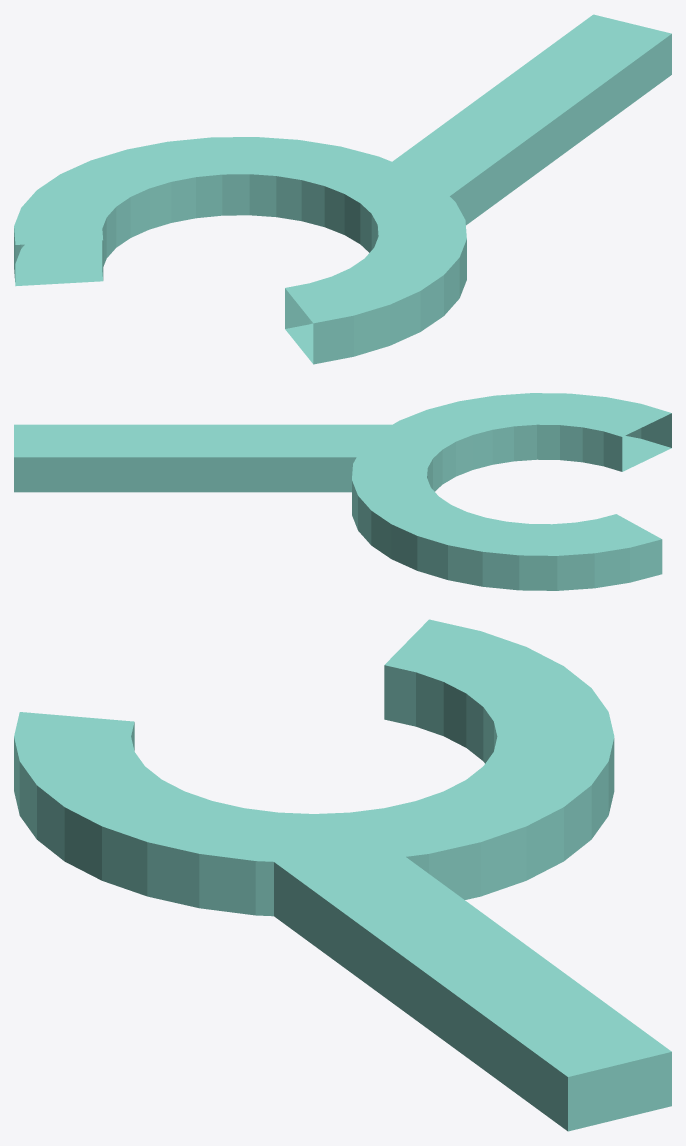
3 renders of one model, top to bottom at view 1: azimuth 30°, elevation 25°; view 2: azimuth 150°, elevation 25°; view 3: azimuth 270°, elevation 25°, orthographic. The views are drawn at different scales.
Parts seen in each view (by area): view 1: Cylinder, Cube; view 2: Cylinder, Cube; view 3: Cylinder, Cube.
Part boxes in pixels (x1,y1,x2,y2): Cylinder: (14, 137, 466, 364); Cube: (367, 14, 671, 225); Cylinder: (352, 393, 671, 590); Cube: (14, 424, 400, 492); Cylinder: (14, 619, 614, 916); Cube: (268, 832, 671, 1131).
Size of the model in its own units: 361 by 20 by 219.
